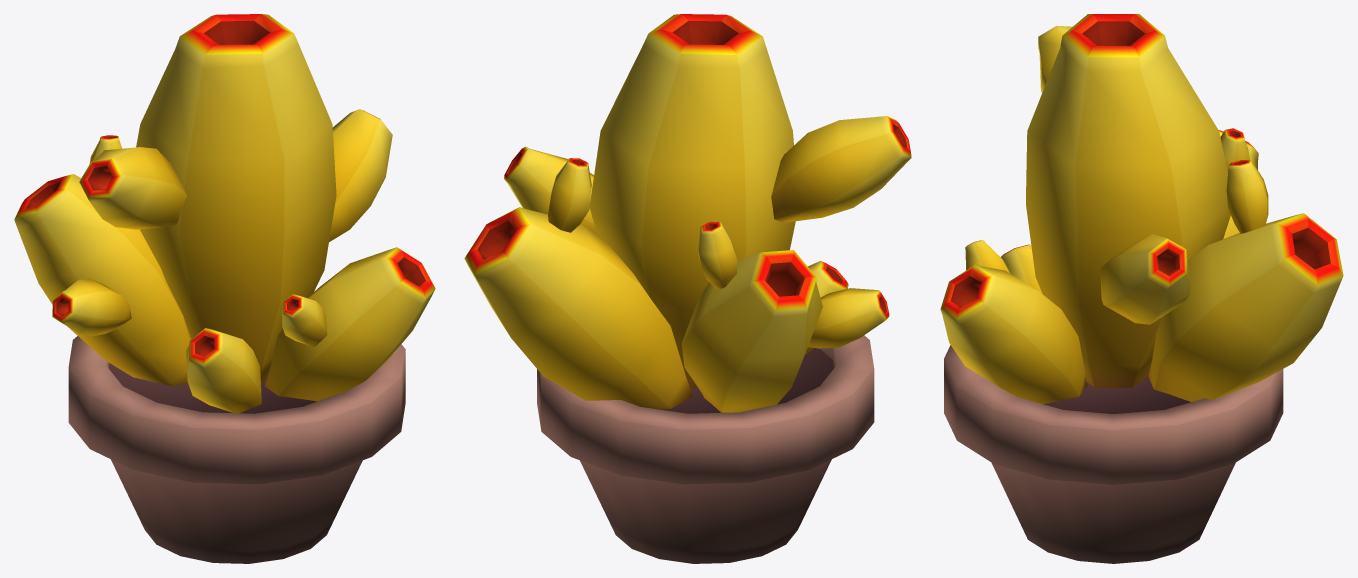
Rendered from wp_wPot_28.fbx.
3 renders of one model, left to right at view 1: azimuth 30°, elevation 25°; view 2: azimuth 150°, elevation 25°; view 3: azimuth 270°, elevation 25°, orthographic.
Visible parts, largest first — view 1: w_pl28; view 2: w_pl28; view 3: w_pl28.
Boxes of the visible parts, x1=… form: w_pl28: x1=14, y1=14, x2=435, y2=563; w_pl28: x1=464, y1=14, x2=911, y2=563; w_pl28: x1=940, y1=14, x2=1343, y2=563.
Bounding box in the file's own units: 127 × 169 × 125.
